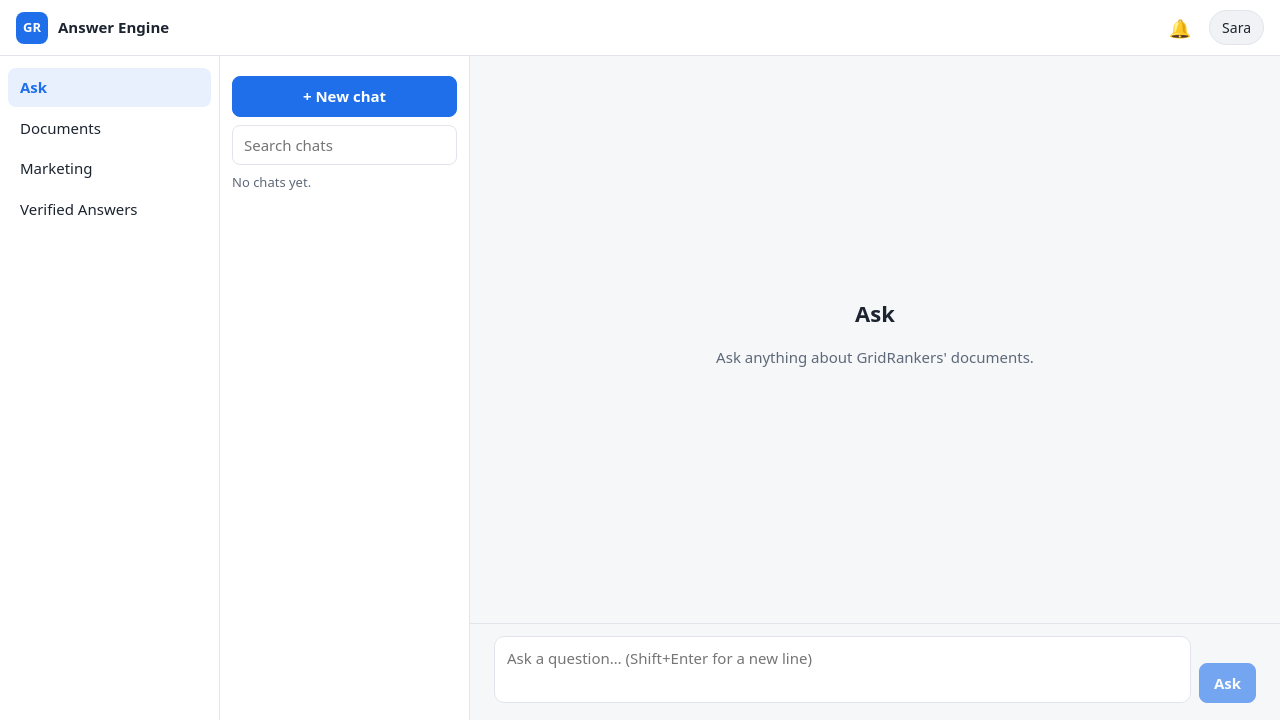
Scenario: a replaced answer shows the final text
Type "Something?" into the text box named "Your question". click: (842, 670)
box: [494,636,1191,703]
Then press Enter
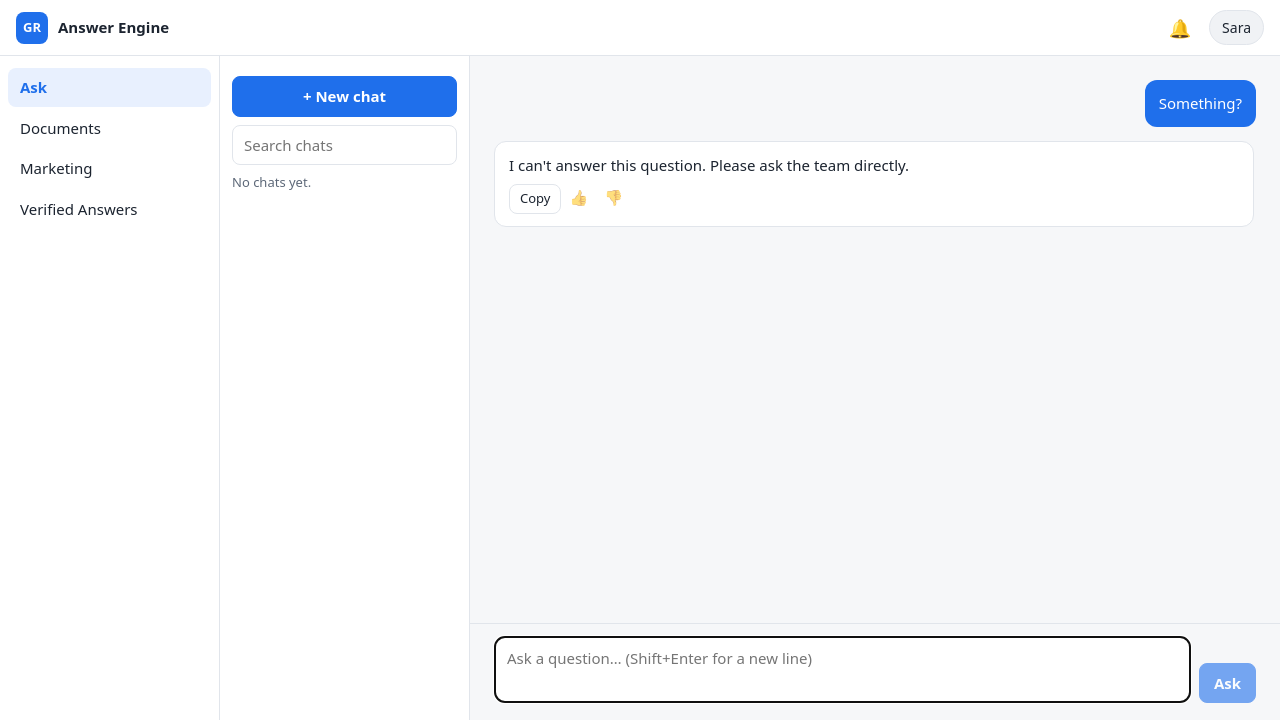
Expected: the text "I can't answer this question. Please ask the team directly." is shown, [509,154,909,174]
